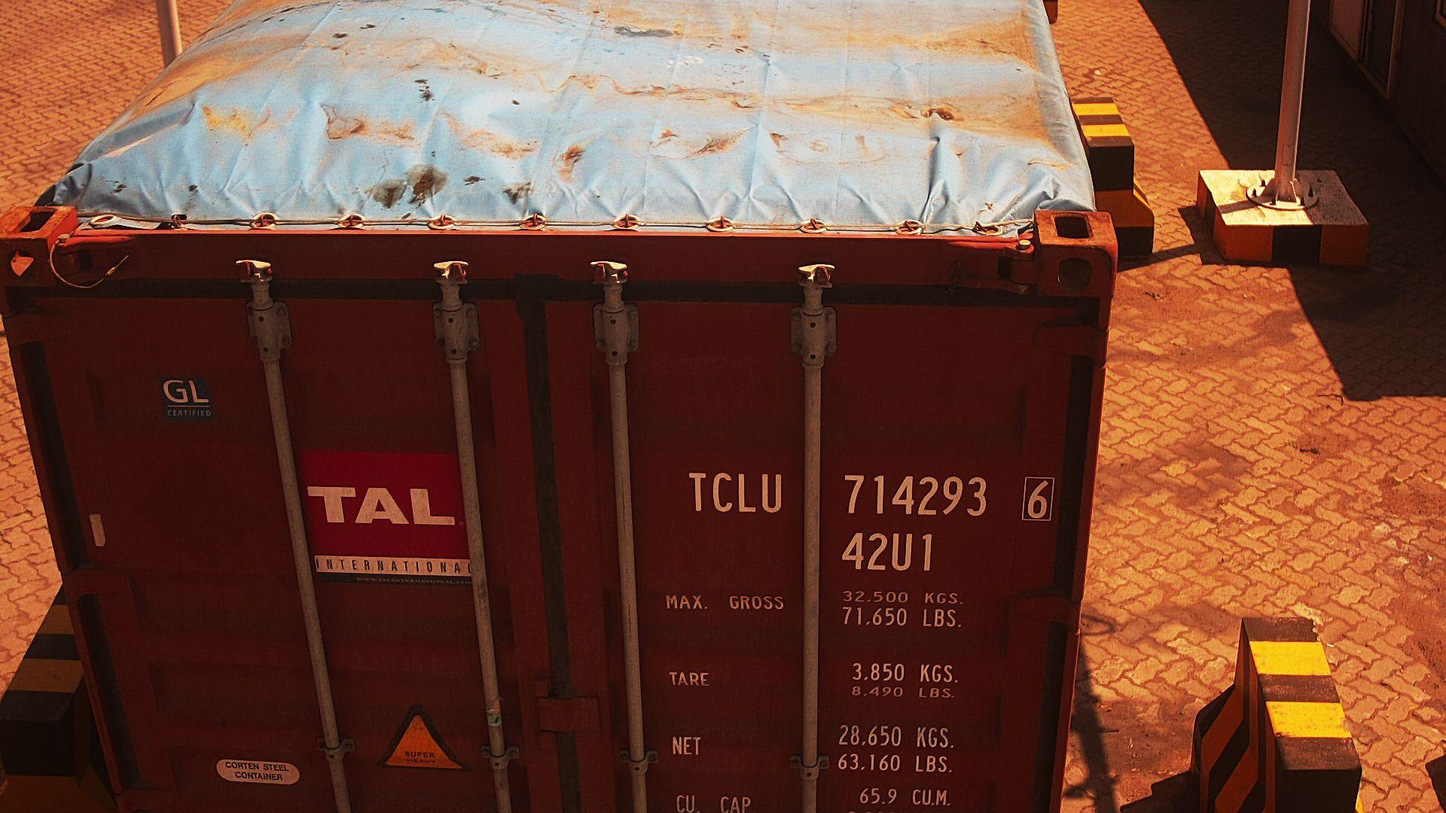container-numbers: (687, 469, 1061, 524), (839, 529, 936, 575)
